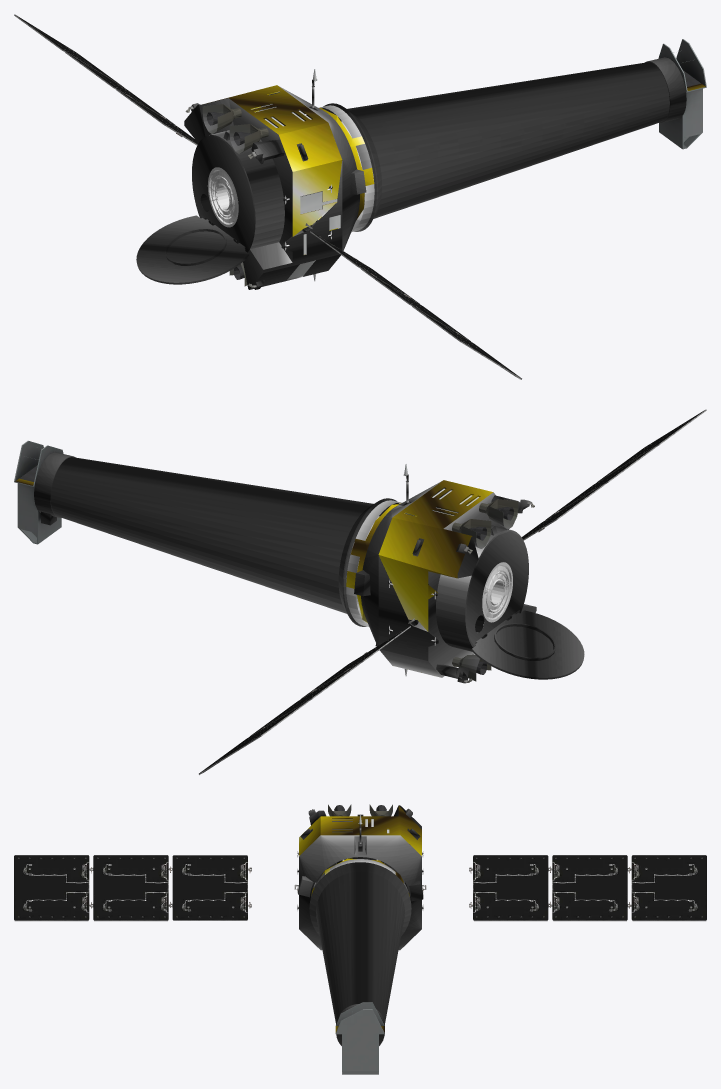
File: chandra.glb
3 views of the same model, one above another, from view 1: azimuth 30°, elevation 25°; view 2: azimuth 150°, elevation 25°; view 3: azimuth 270°, elevation 25° (orthographic). The views are drawn at different scales.
Visible parts, largest first — view 1: foil_silver, tex_01, foil_gold, AO_HRMA; view 2: foil_silver, foil_gold, tex_01, AO_HRMA; view 3: tex_01, foil_silver, foil_gold, shiny_panel.
Boxes of the visible parts, <box> form: foil_silver: <box>136,57,686,289</box>; tex_01: <box>14,14,706,379</box>; foil_gold: <box>207,83,705,254</box>; AO_HRMA: <box>207,121,373,227</box>; foil_silver: <box>34,452,584,683</box>; foil_gold: <box>15,478,493,631</box>; tex_01: <box>14,409,706,774</box>; AO_HRMA: <box>346,516,512,622</box>; tex_01: <box>14,804,706,1074</box>; foil_silver: <box>297,805,423,1045</box>; foil_gold: <box>299,806,421,1032</box>; shiny_panel: <box>15,855,705,921</box>.
Size of the model in its own units: 13.78 by 5.12 by 19.51.
4 materials, 3 textured.
